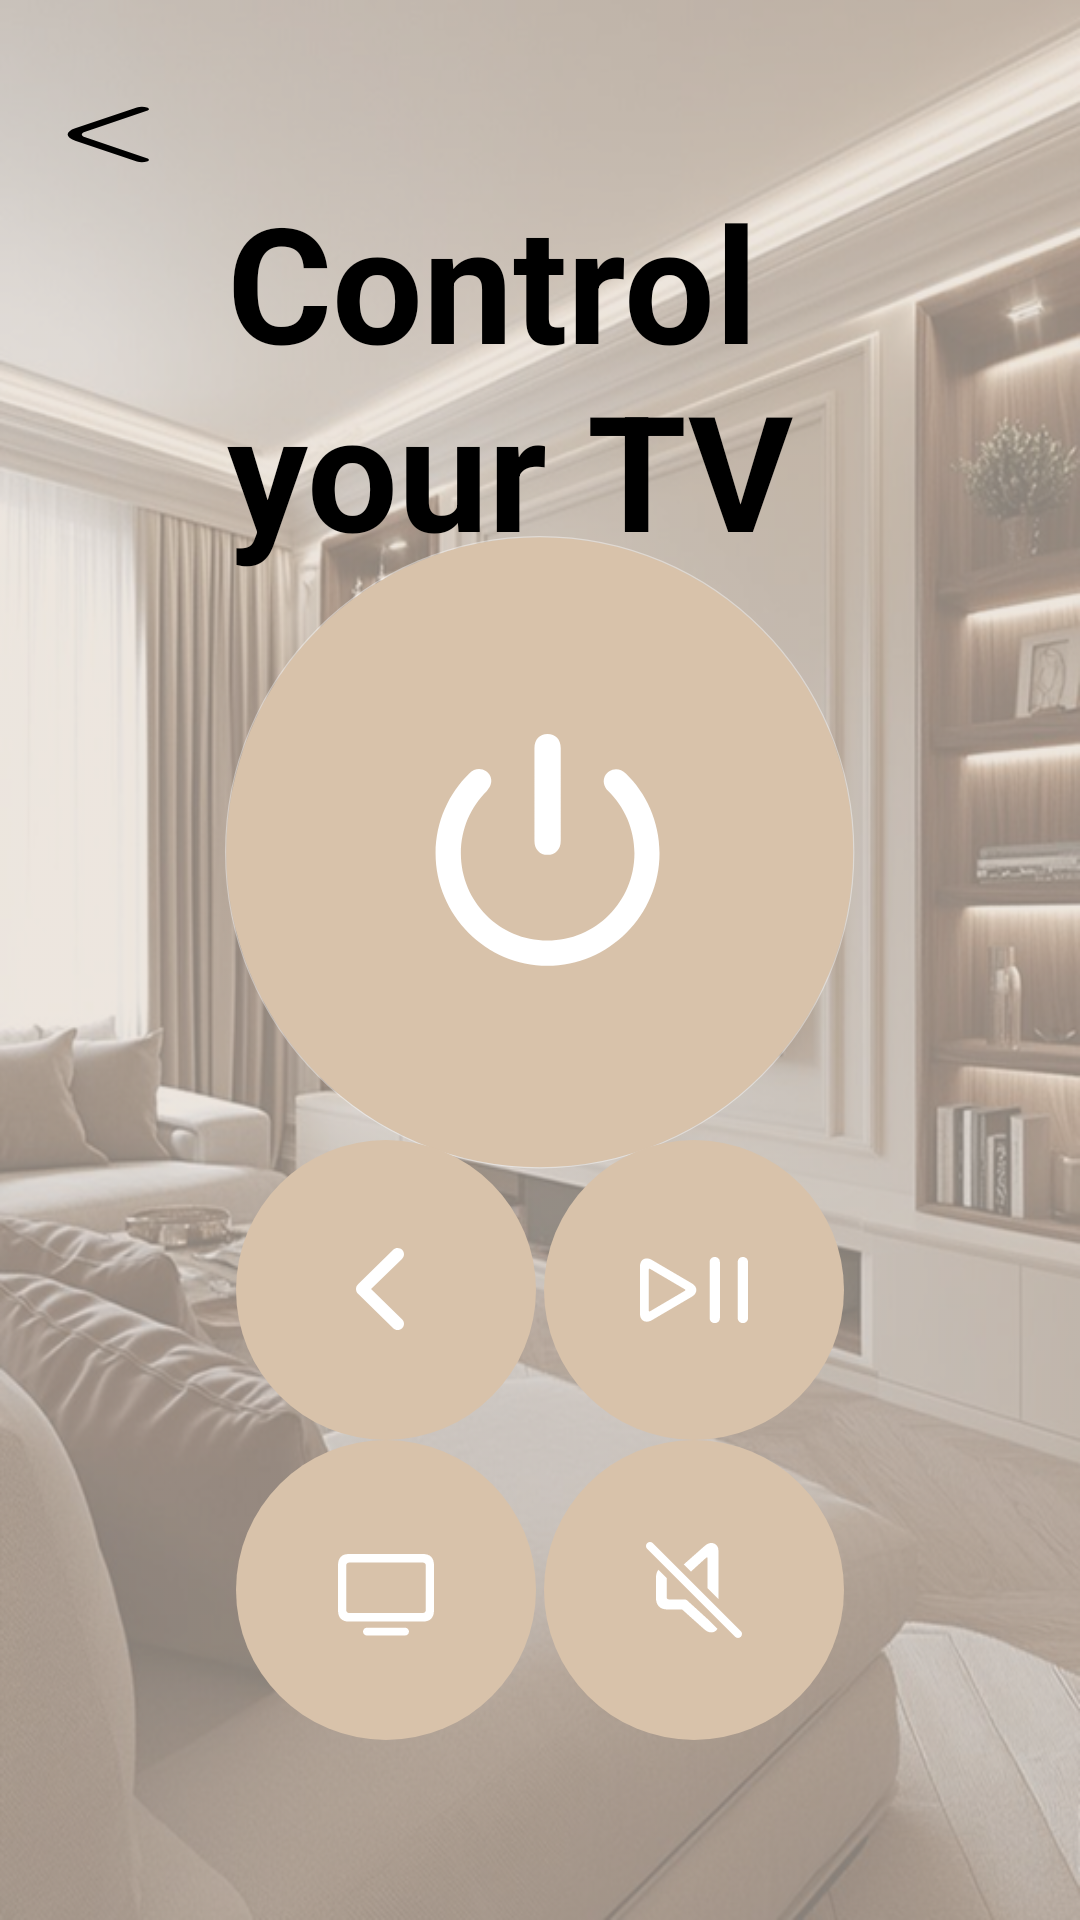

Point at icon controls on the screen. Image size 1080px×1920px, points as point (x, y).
arrow left: point (108, 134)
backchanel: point (386, 1290)
mute: point (694, 1590)
pause: point (694, 1290)
